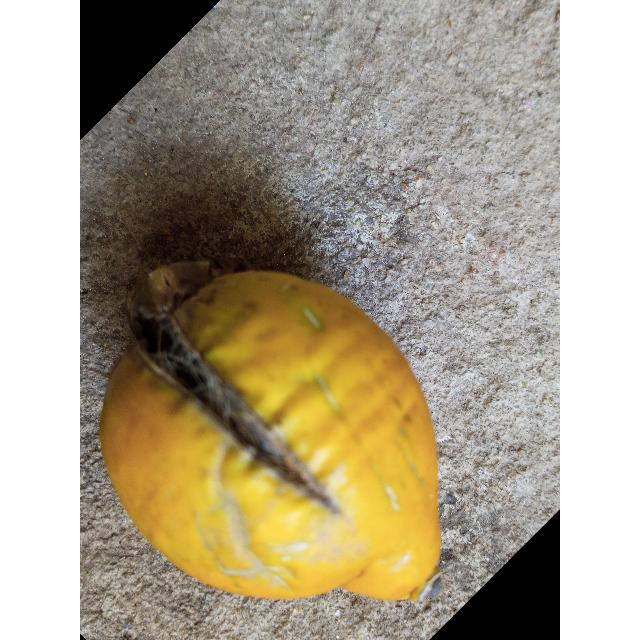damaged: (99, 263, 442, 605)
